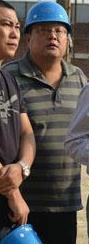hard-hat: (24, 0, 71, 32)
